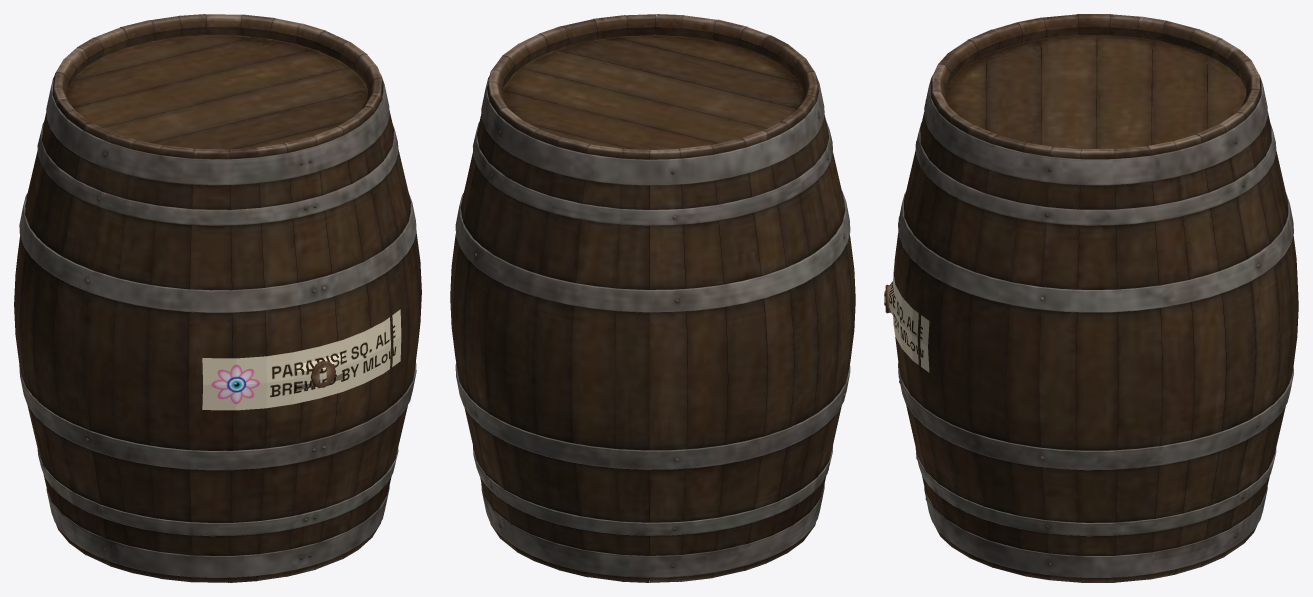
Rendered from nyb_gangs_barrel.glb.
The picture shows the model from 3 angles, left to right: view 1: azimuth 30°, elevation 25°; view 2: azimuth 150°, elevation 25°; view 3: azimuth 270°, elevation 25°; orthographic projection.
Visible parts, largest first — view 1: wine_barrel_01_Lid, stk_lbl_d3dd6017b7.png; view 2: wine_barrel_01_Lid; view 3: wine_barrel_01_Lid, stk_lbl_d3dd6017b7.png.
Part boxes in pixels (x1,y1,x2,y2): wine_barrel_01_Lid: (14, 14, 421, 582); stk_lbl_d3dd6017b7.png: (202, 309, 401, 410); wine_barrel_01_Lid: (450, 14, 855, 582); wine_barrel_01_Lid: (885, 14, 1298, 582); stk_lbl_d3dd6017b7.png: (884, 263, 929, 372).
Size of the model in its own units: 0.7419 by 0.8713 by 0.7584.
Materials: 2 (2 with a texture image).
